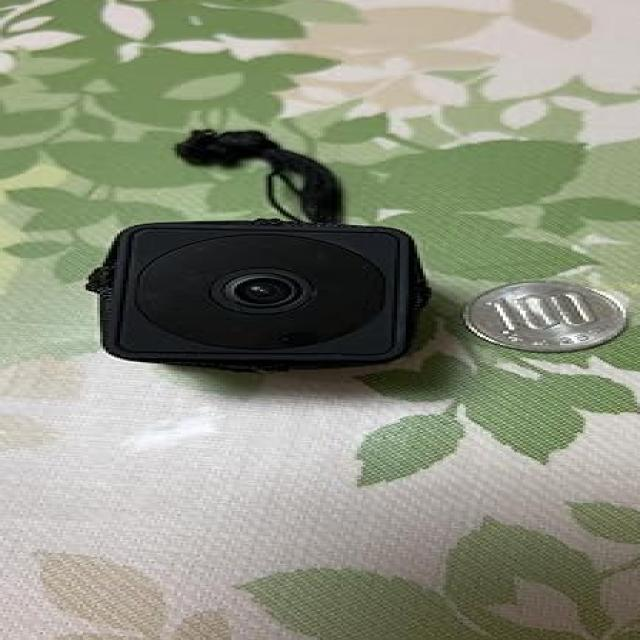hidden camera: (221, 270, 302, 314)
